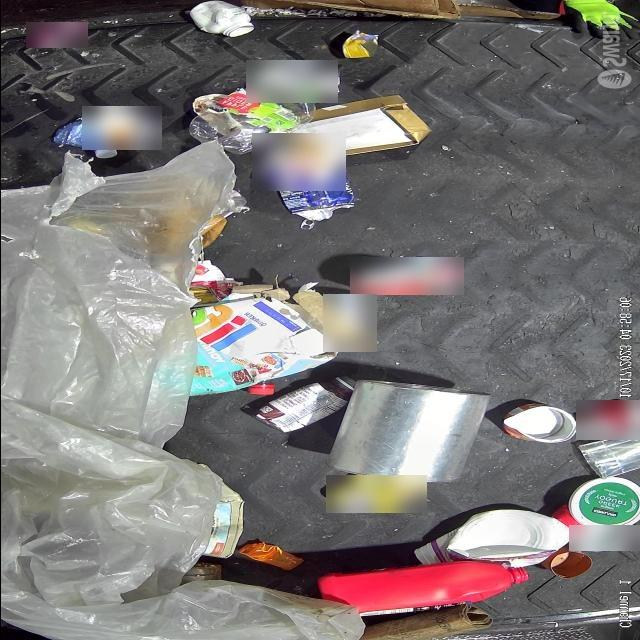non_white_jug: (321, 560, 527, 612)
